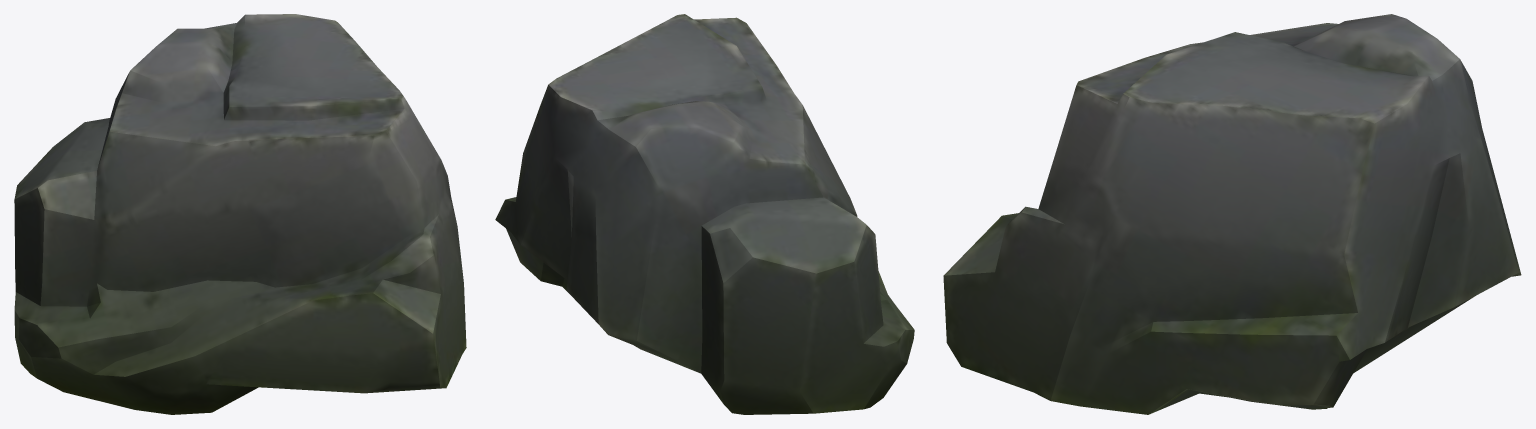
Rendered from Rock_Medium_3.gltf.
The picture shows the model from 3 angles, left to right: view 1: azimuth 30°, elevation 25°; view 2: azimuth 150°, elevation 25°; view 3: azimuth 270°, elevation 25°; orthographic projection. The views are drawn at different scales.
Parts seen in each view (by area): view 1: Rock_Medium_3; view 2: Rock_Medium_3; view 3: Rock_Medium_3.
Part boxes in pixels (left/top/right/bottom): Rock_Medium_3: left=14, top=14, right=466, bottom=414; Rock_Medium_3: left=495, top=14, right=914, bottom=414; Rock_Medium_3: left=943, top=14, right=1521, bottom=414.
Size of the model in its own units: 3.42 by 2.32 by 3.48.
1 material, 1 textured.
